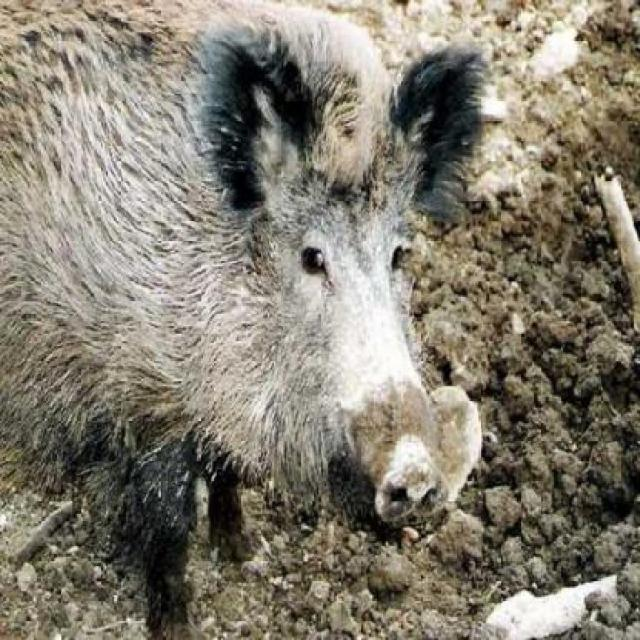WildBoar: (0, 0, 526, 555)
